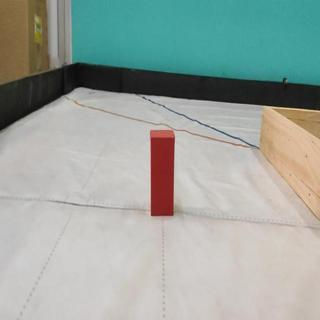redbox: (150, 129, 175, 216)
